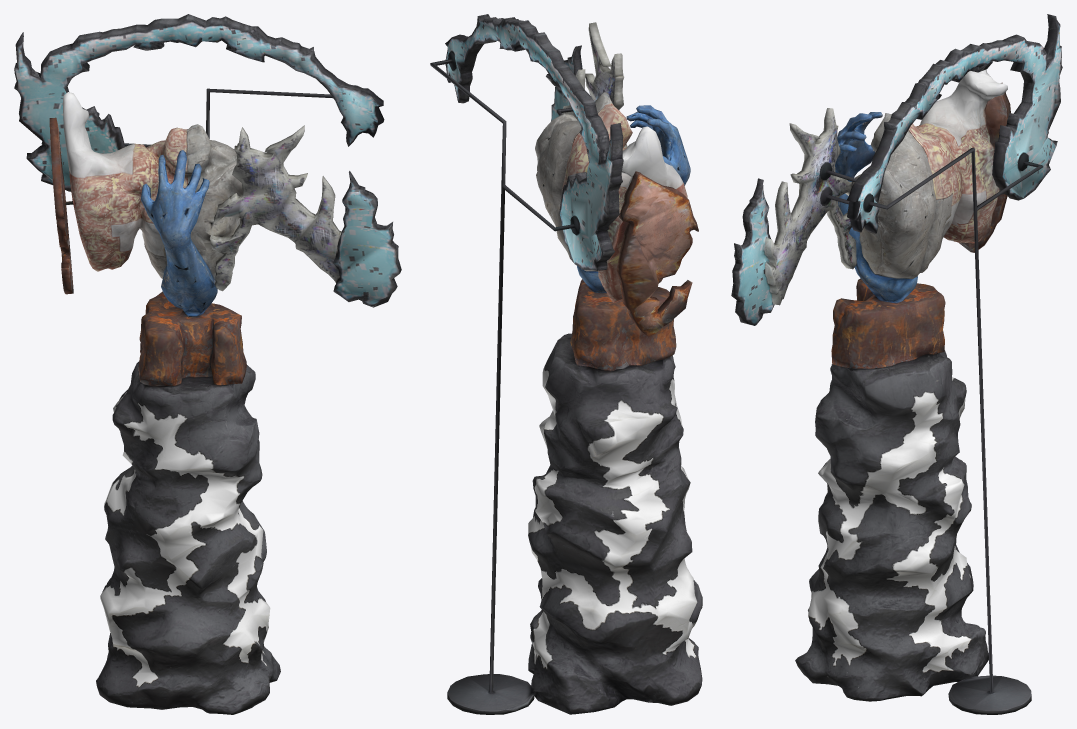
Rendered from 06_jung_power.glb.
3 views of the same model, side by side, from view 1: azimuth 30°, elevation 25°; view 2: azimuth 150°, elevation 25°; view 3: azimuth 270°, elevation 25° (orthographic). The views are drawn at different scales.
Parts seen in each view (by area): view 1: Group10739; view 2: Group10739; view 3: Group10739.
Boxes of the visible parts, x1,y1,x2,y2 form: Group10739: [14, 14, 401, 714]; Group10739: [430, 14, 702, 714]; Group10739: [731, 14, 1062, 714].
Bounding box in the file's own units: 8.6 × 18.16 × 8.63.
1 material, 1 textured.
